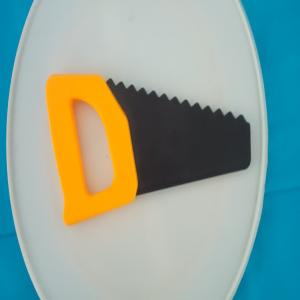serrote: (48, 70, 251, 226)
